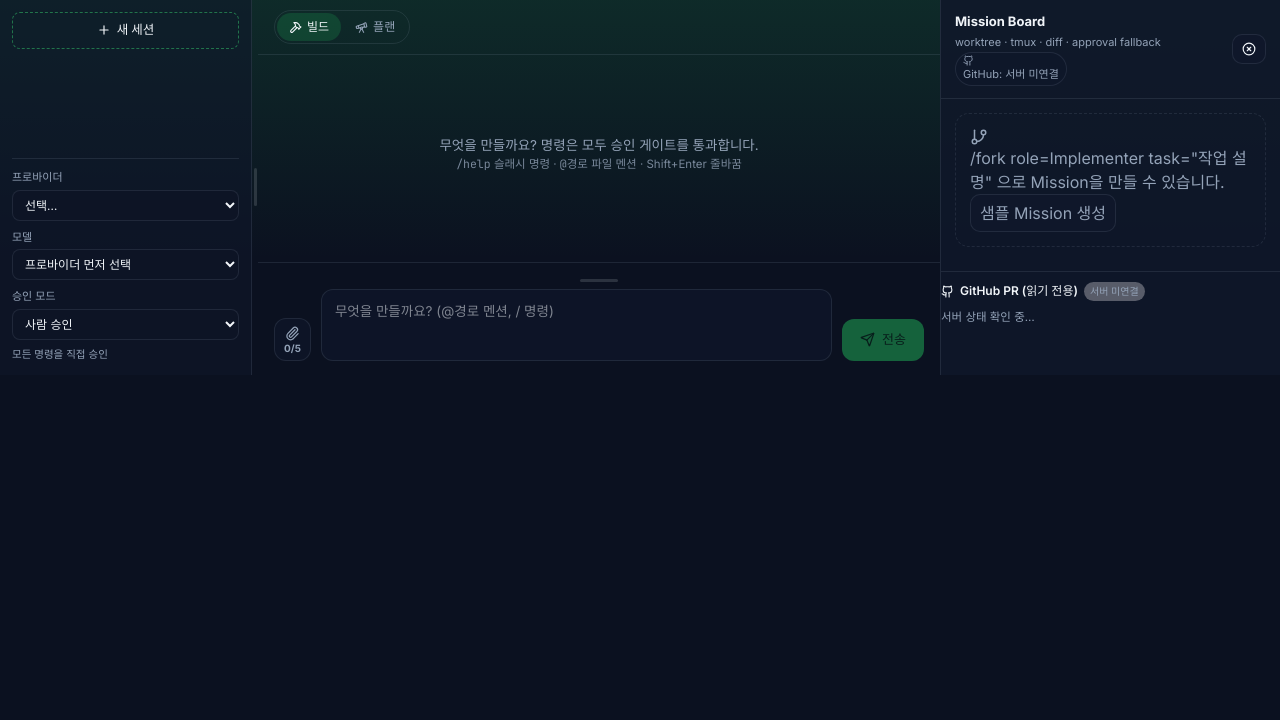
CodingWorkbench 자동승인 (jsdom) — 옵션 명시 활성화 + 첫 켜기 경고 › 취소하면 자동승인이 활성화되지 않고 manual 그대로
The image size is (1280, 720).
Select "자동 진행" in the dropdown showing "사람 승인" at (126, 324), box x1=12 y1=309 x2=239 y2=340
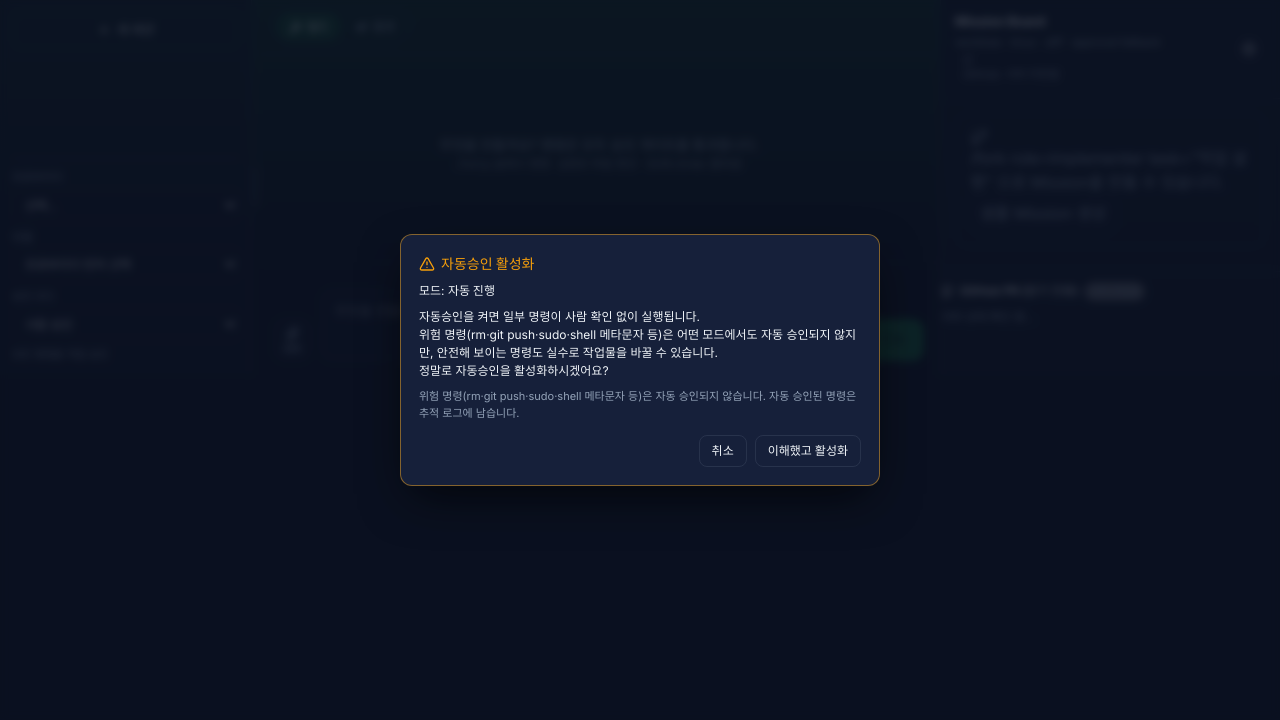
Click the button "취소" at (723, 451), box x1=699 y1=435 x2=747 y2=467
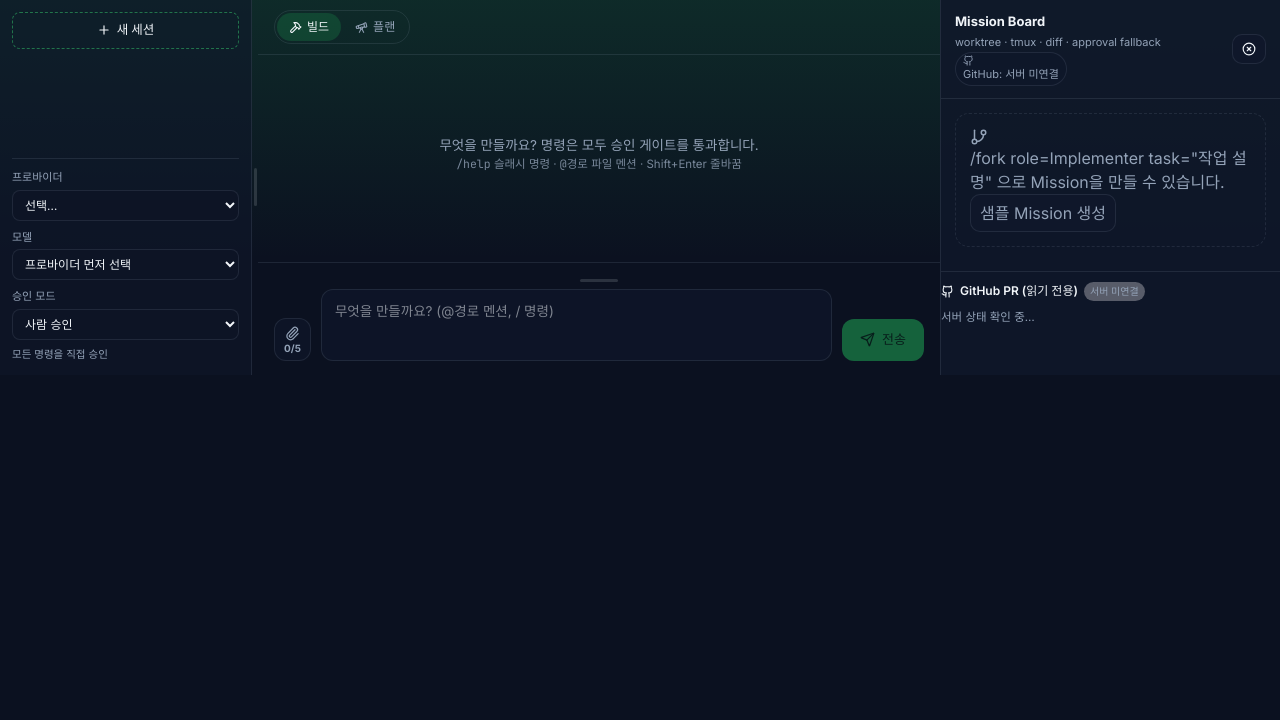
Now the heading "자동승인 활성화" is gone
